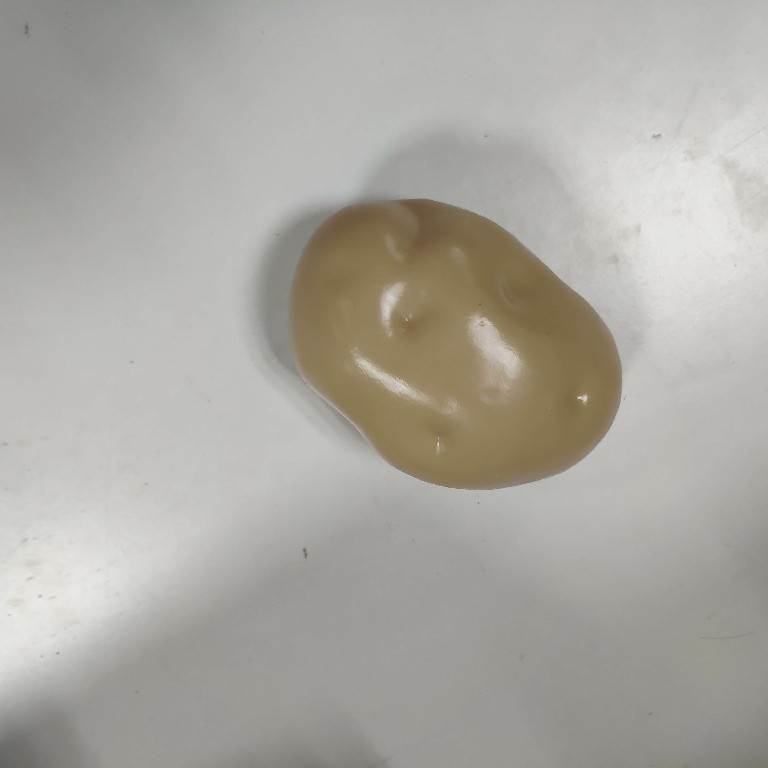fruit_potato: (283, 196, 626, 494)
